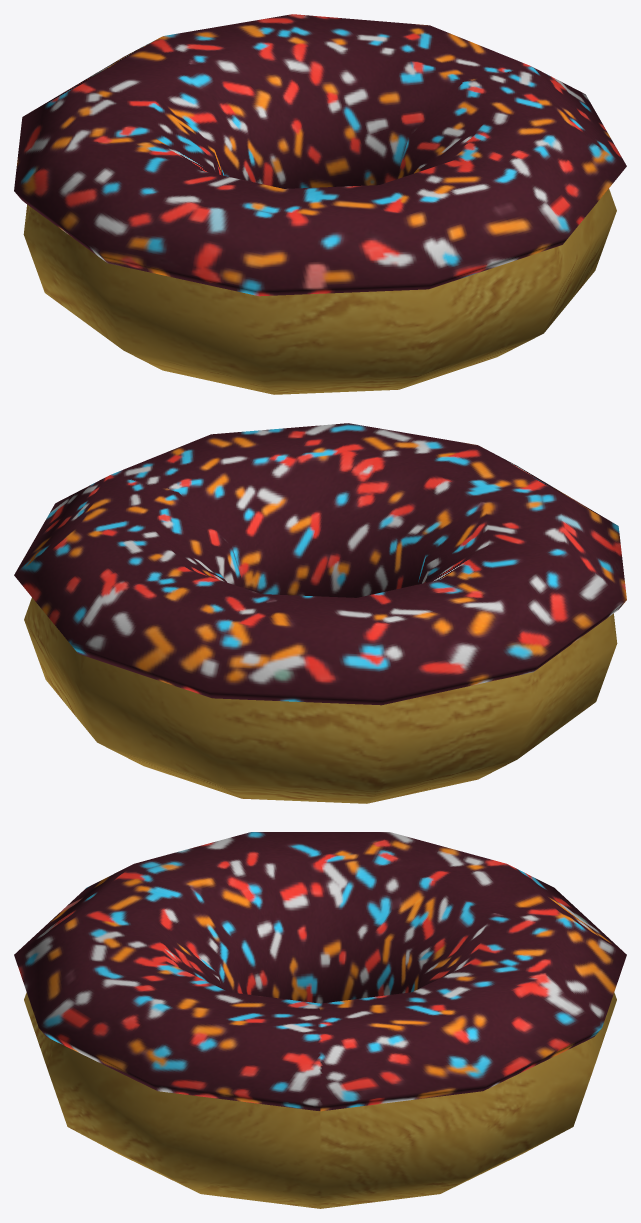
File: Donnut.glb
3 renders of one model, top to bottom at view 1: azimuth 30°, elevation 25°; view 2: azimuth 150°, elevation 25°; view 3: azimuth 270°, elevation 25°, orthographic.
Parts seen in each view (by area): view 1: Donnut; view 2: Donnut; view 3: Donnut.
Boxes of the visible parts, left/top/right/bottom form: Donnut: left=14, top=14, right=626, bottom=394; Donnut: left=14, top=423, right=626, bottom=803; Donnut: left=14, top=832, right=626, bottom=1208.
Bounding box in the file's own units: 0.2156 × 0.0718 × 0.2179.
1 material, 1 textured.
